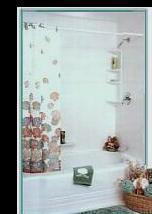Ducha: (111, 26, 143, 152)
